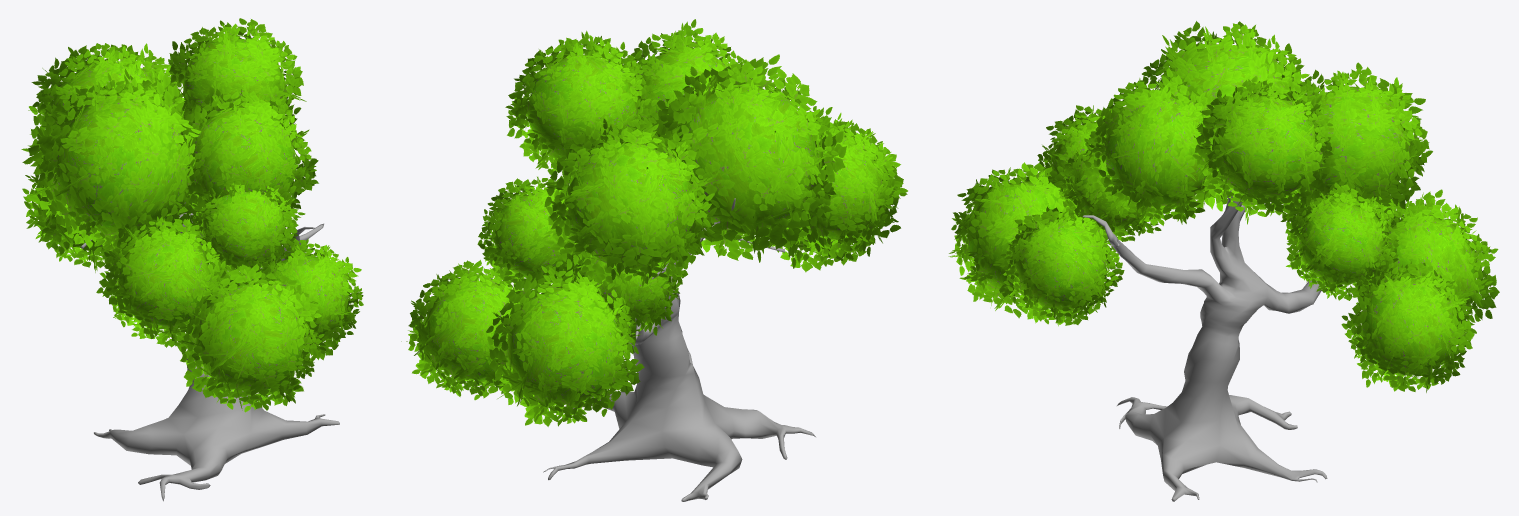
Rendered from Walnut Treee.fbx.
3 views of the same model, side by side, from view 1: azimuth 30°, elevation 25°; view 2: azimuth 150°, elevation 25°; view 3: azimuth 270°, elevation 25° (orthographic). The views are drawn at different scales.
Visible parts, largest first — view 1: FAE_Tree_B_LOD0.001, DeadTree_LoPoly; view 2: FAE_Tree_B_LOD0.001, DeadTree_LoPoly; view 3: FAE_Tree_B_LOD0.001, DeadTree_LoPoly.
Part boxes in pixels (box(x1,y1,x2,y2)): FAE_Tree_B_LOD0.001: box(21, 18, 363, 412); DeadTree_LoPoly: box(80, 202, 339, 501); FAE_Tree_B_LOD0.001: box(401, 19, 907, 426); DeadTree_LoPoly: box(543, 198, 815, 501); FAE_Tree_B_LOD0.001: box(948, 21, 1499, 392); DeadTree_LoPoly: box(1083, 189, 1327, 501).
Size of what is drawn, in the model's own units: 1146 by 1420 by 1786.
